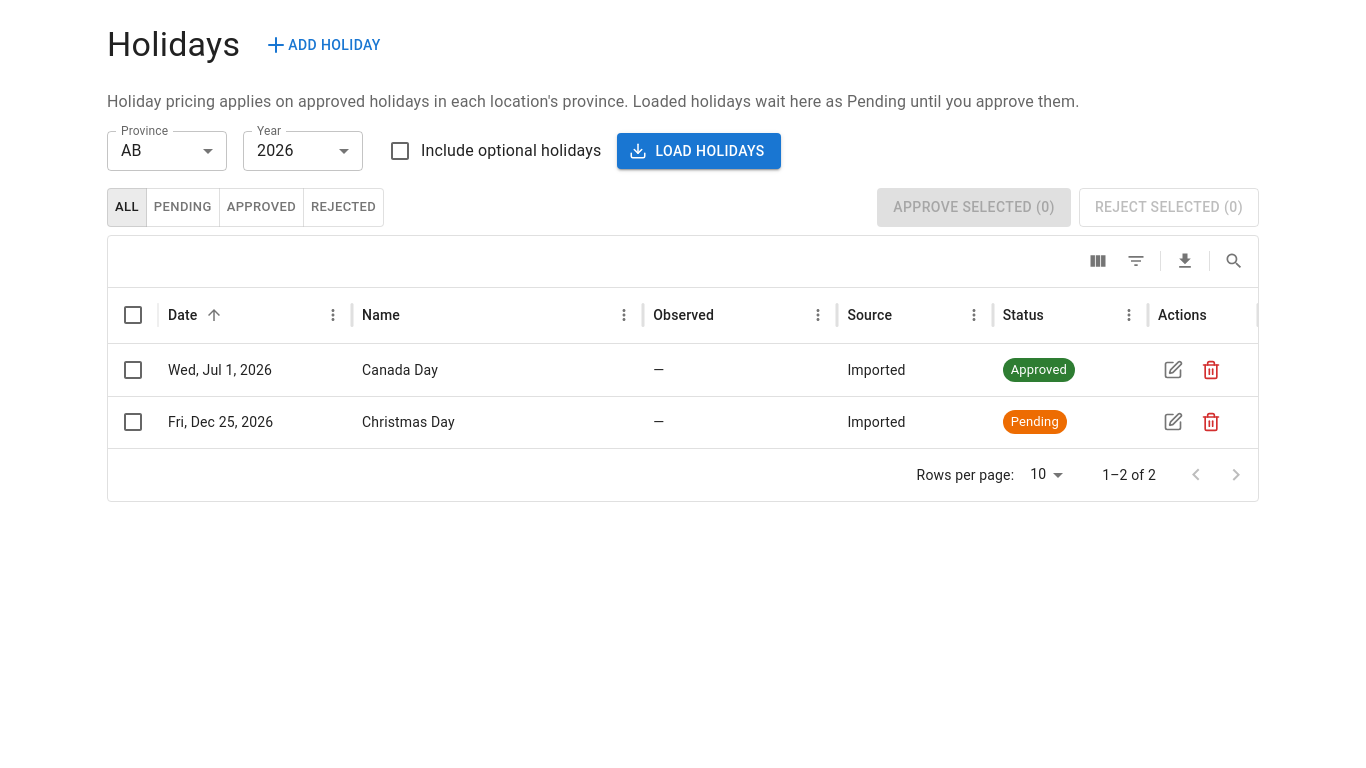
Test: HolidayManagement › opens edit and delete from the row's actions
Expected: the text "Christmas Day" is shown, [352, 396, 643, 448]
Click the button named "Edit Christmas Day": (1173, 422) [1158, 407, 1188, 437]
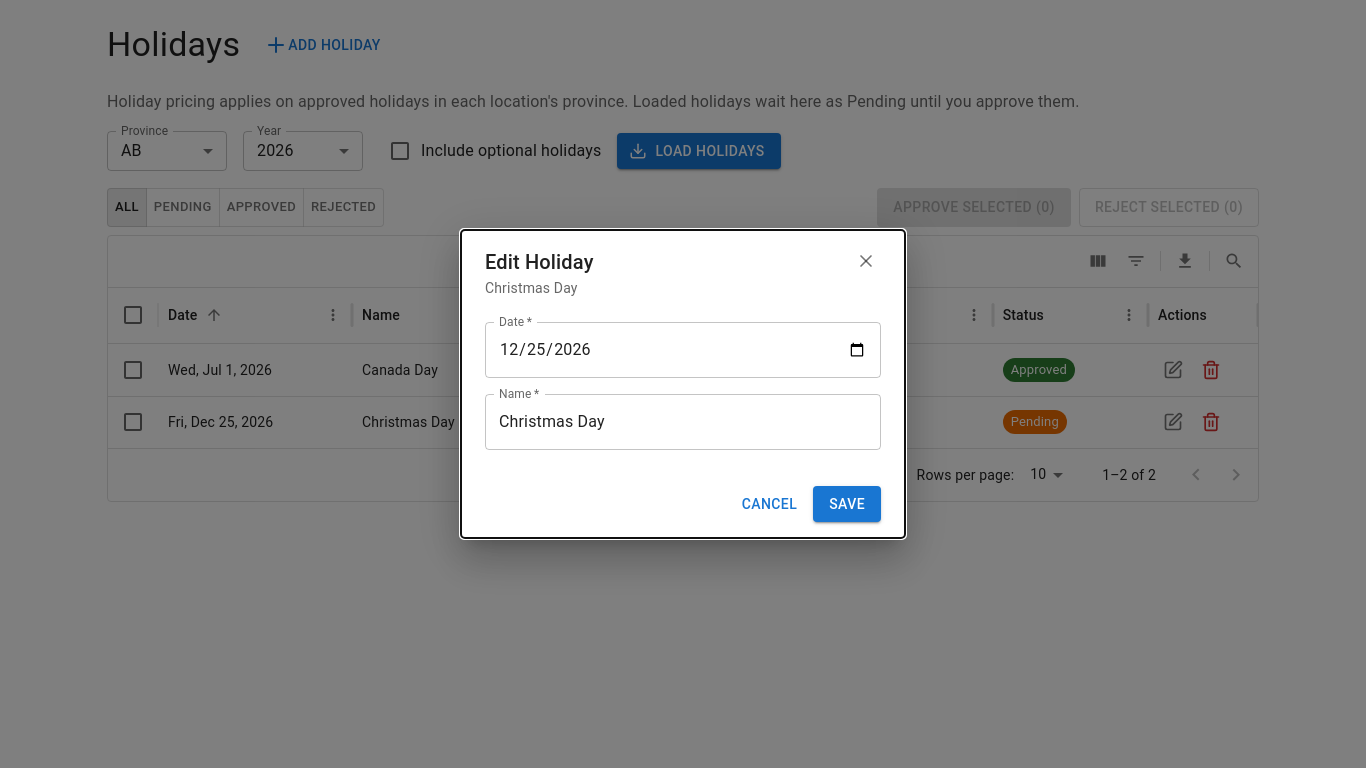
Expected: the heading "Edit Holiday" is shown, [485, 246, 594, 278]
Expected: the field labelled "Name *" holds "Christmas Day", [485, 394, 881, 450]
